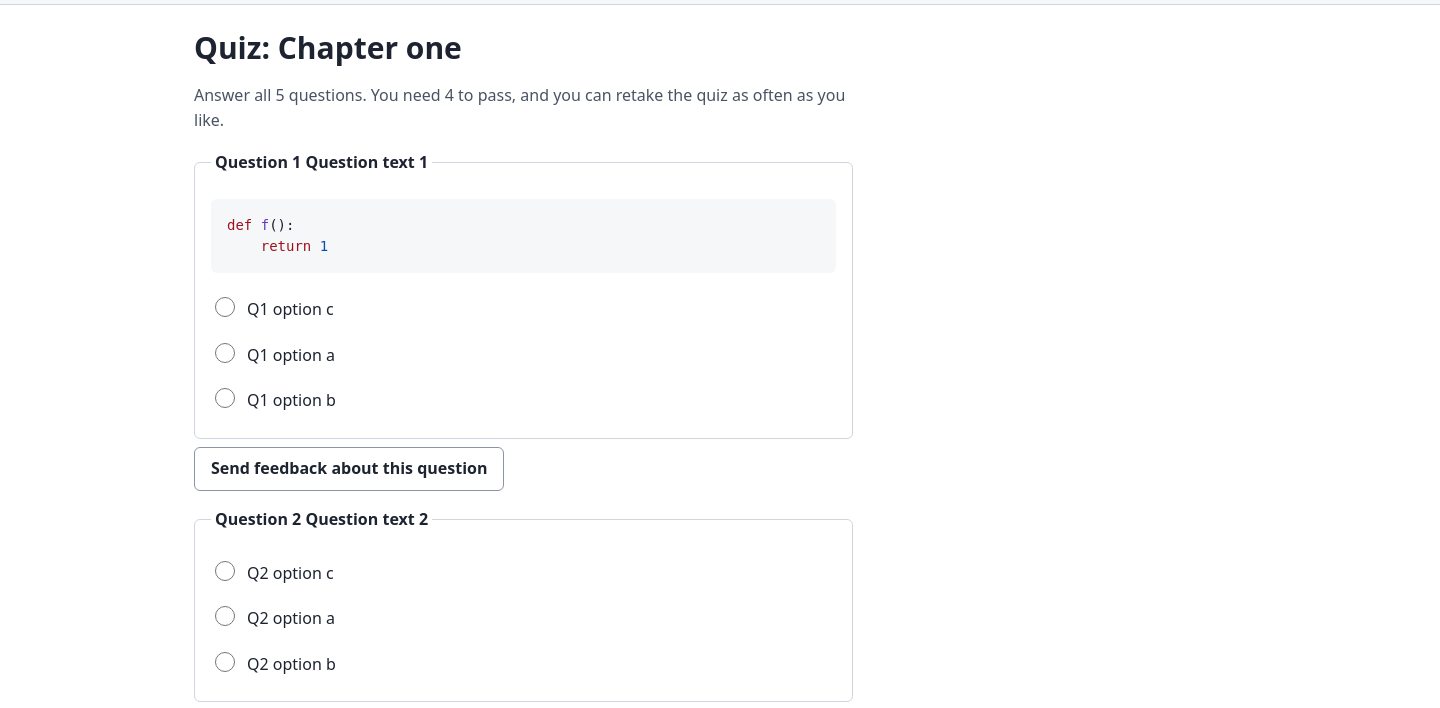
a failed attempt › uses score and total from the response
The image size is (1440, 708).
Click the radio button labelled "Q1 option a".
click(225, 353)  # box [215,343,235,363]
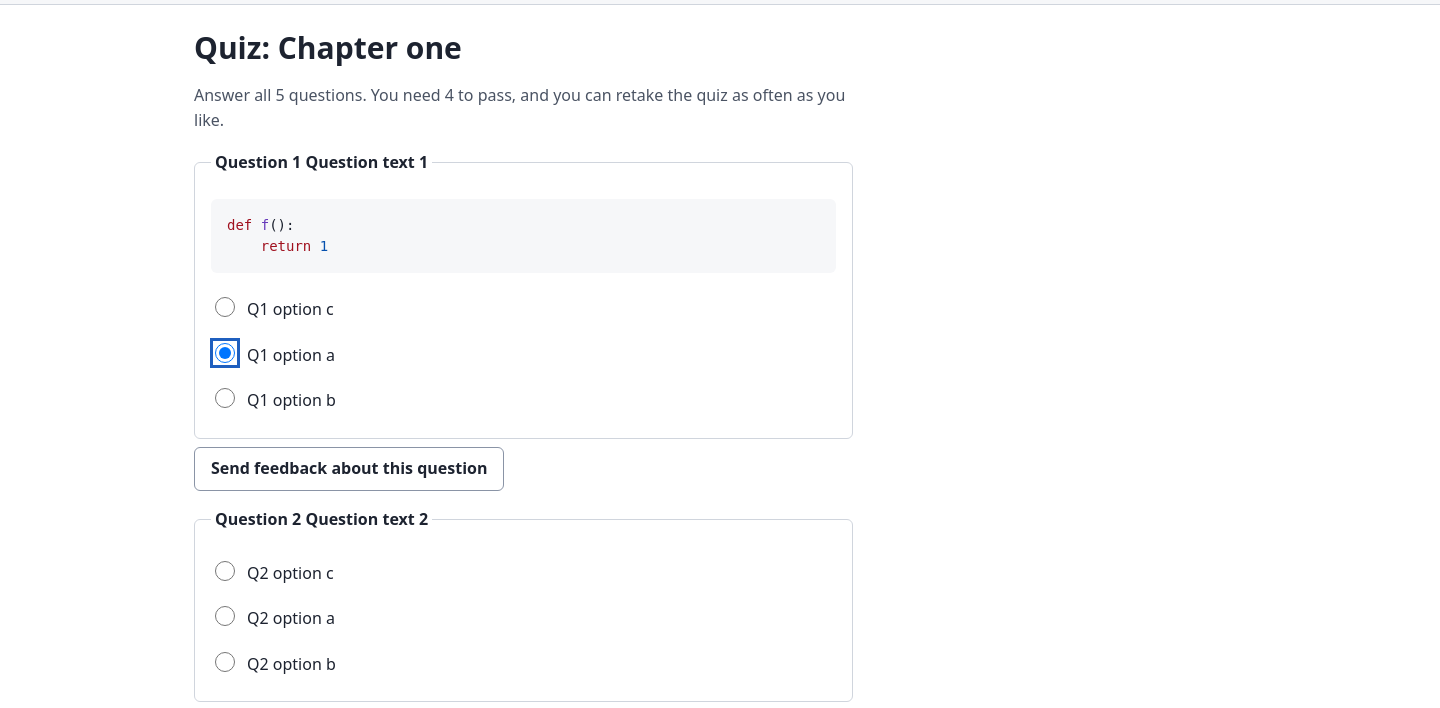
Click the radio button labelled "Q2 option a".
click(225, 616)  # box [215,606,235,626]
(page scrolled)
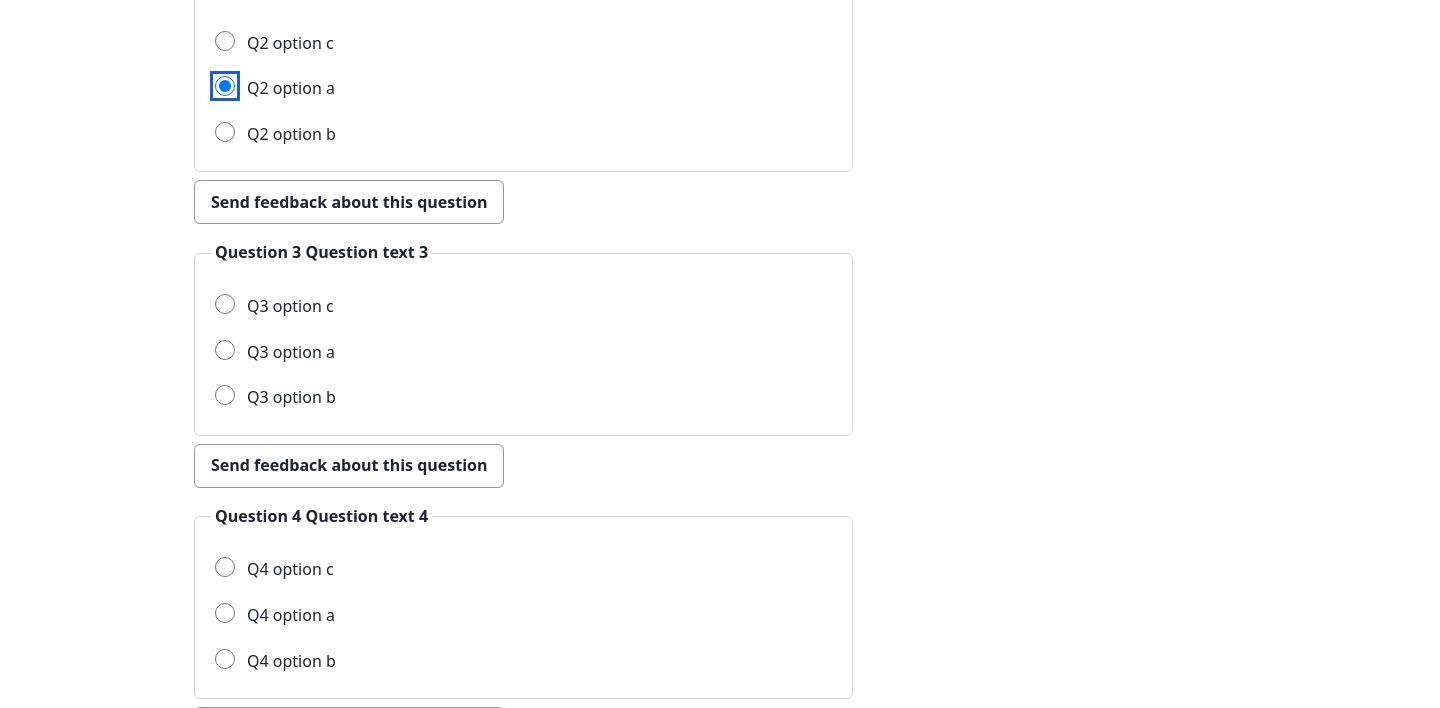
Click the radio button labelled "Q3 option a".
click(225, 350)  # box [215,340,235,360]
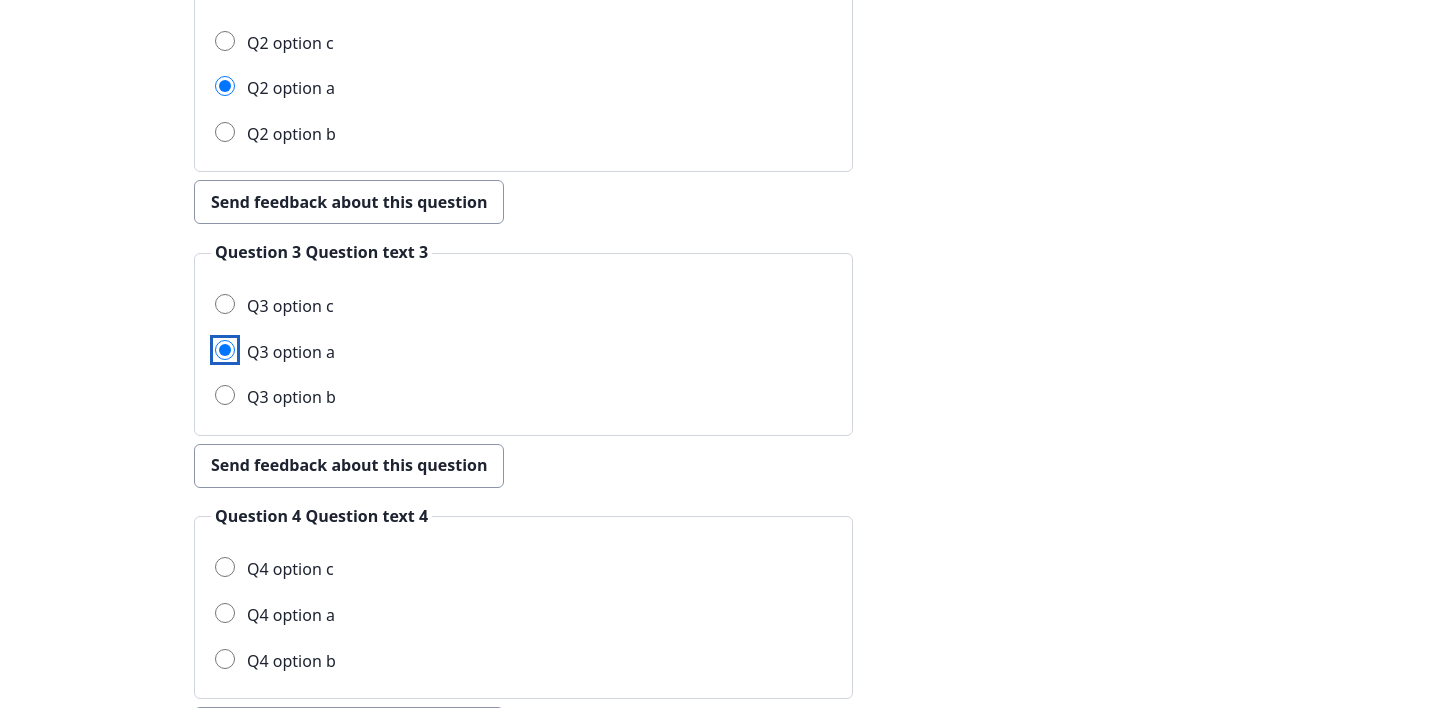
Click the radio button labelled "Q4 option b".
click(225, 659)  # box [215,649,235,669]
(page scrolled)
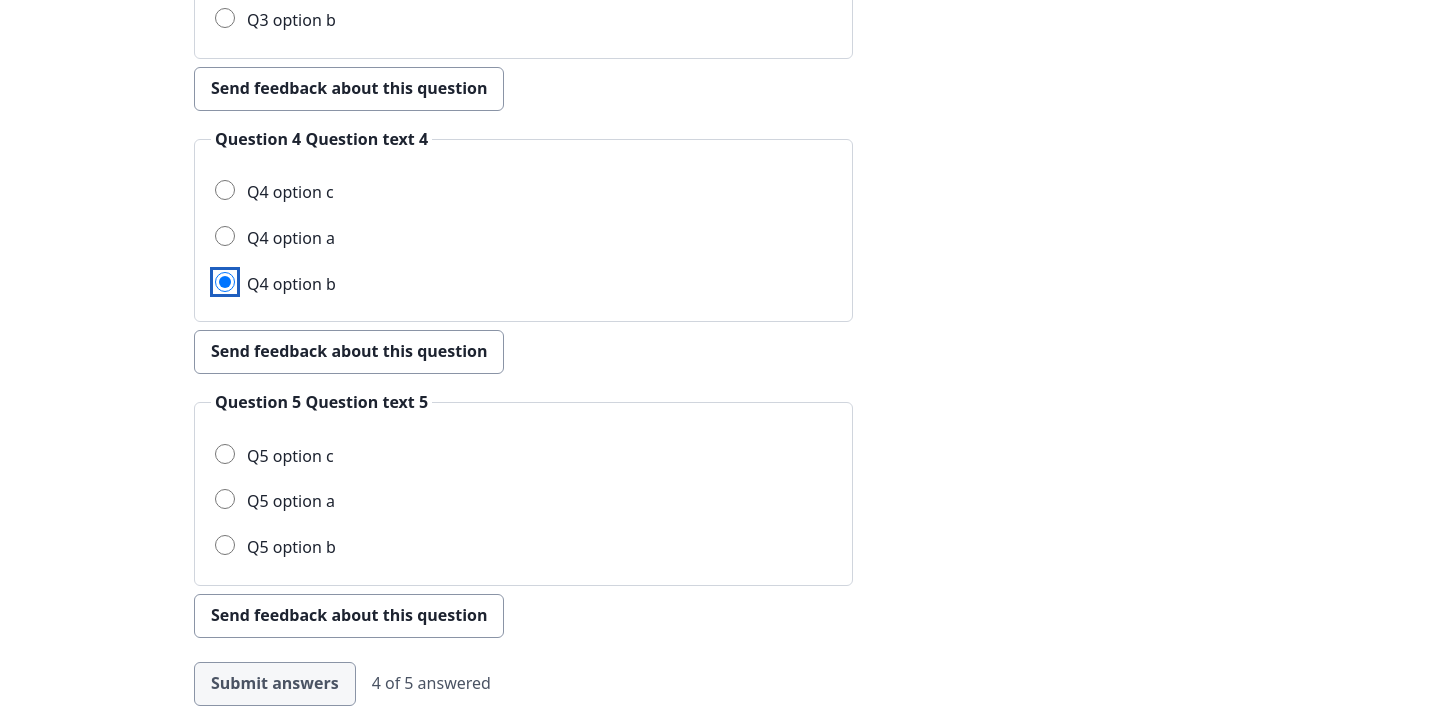
Click the radio button labelled "Q5 option b".
click(225, 545)  # box [215,535,235,555]
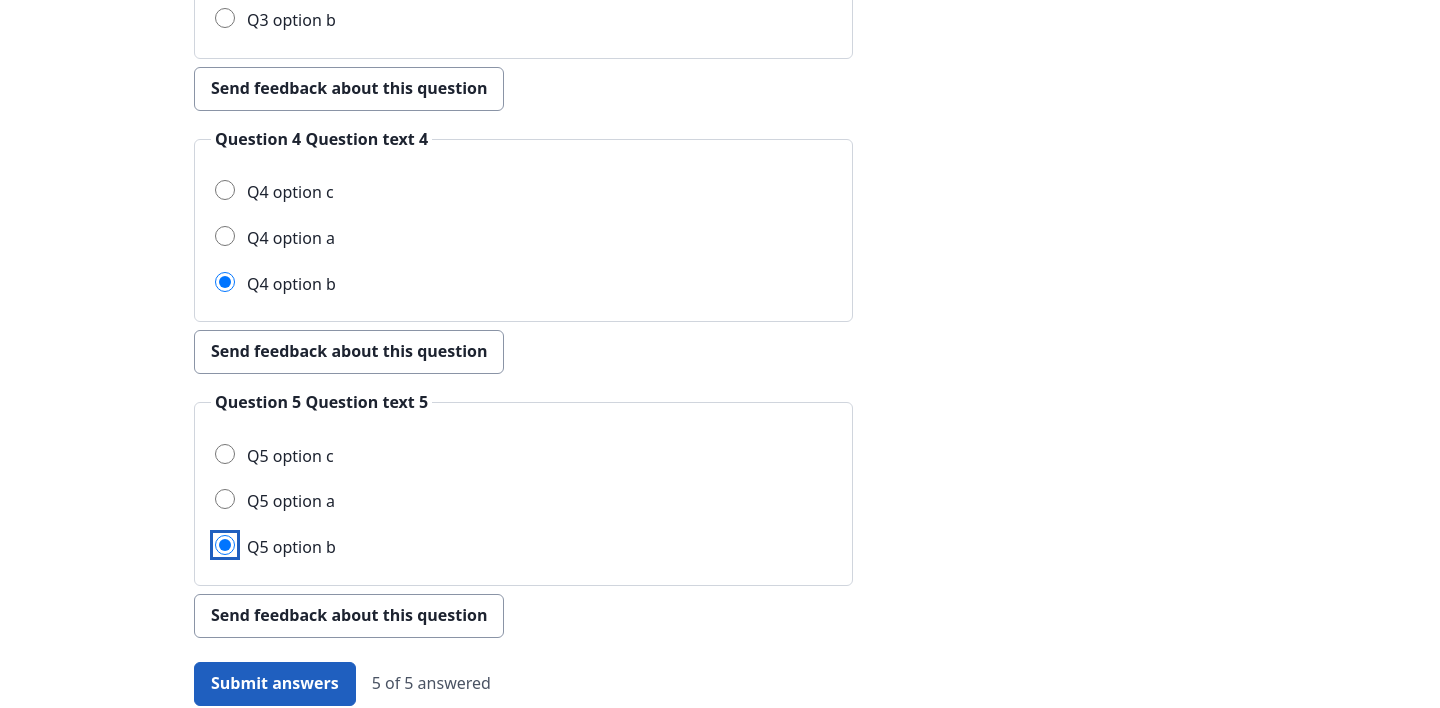
Click the button "Submit answers".
click(275, 684)  # box [194,662,356,706]
(page scrolled)
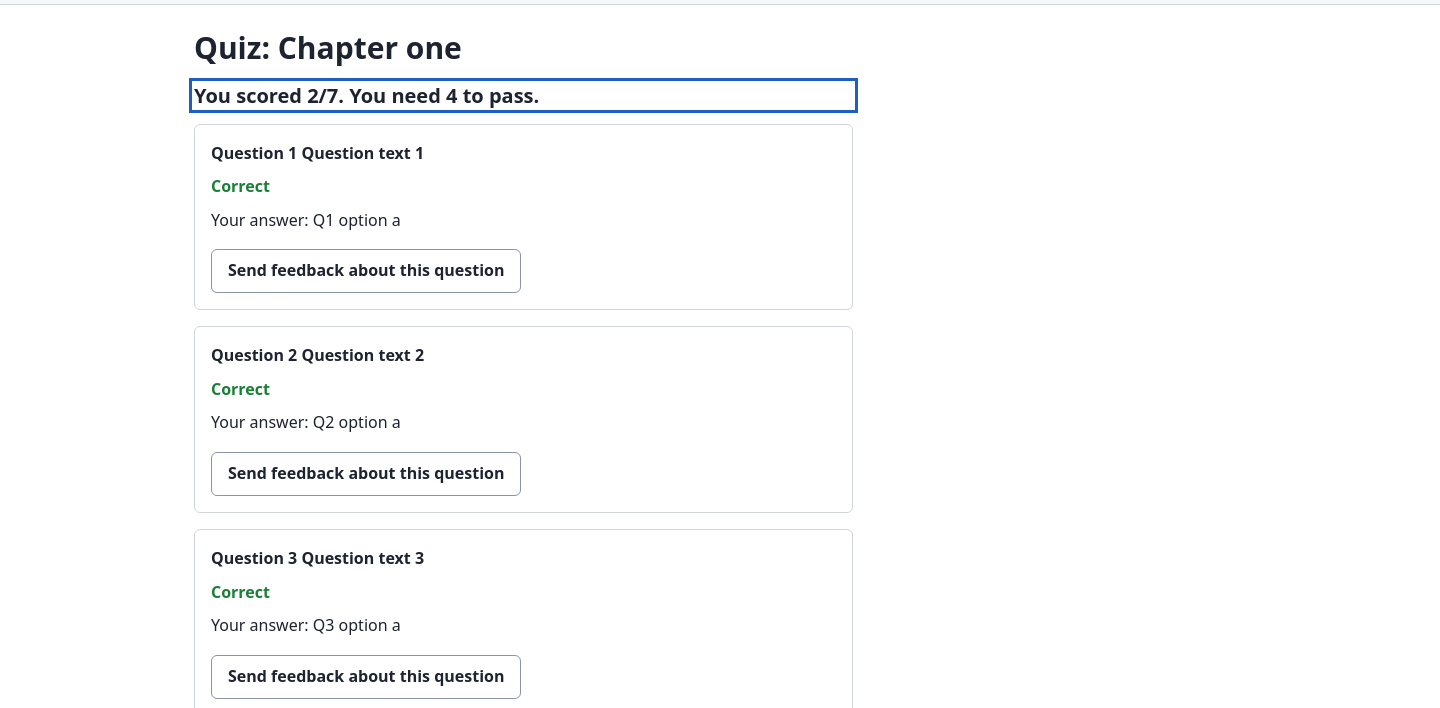
Result: the heading "You scored 2/7. You need 4 to pass." is shown at [194,82,539,108]
